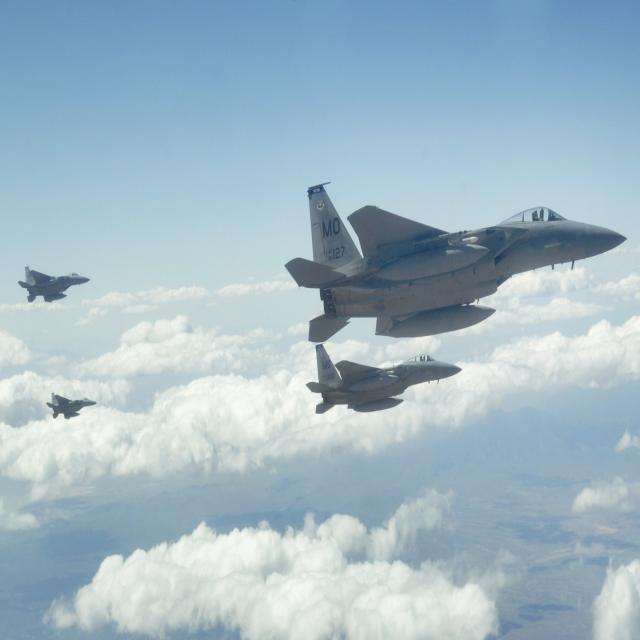MIL_Plane: (284, 180, 628, 343), (306, 344, 462, 414), (17, 266, 91, 304), (46, 391, 97, 420)
